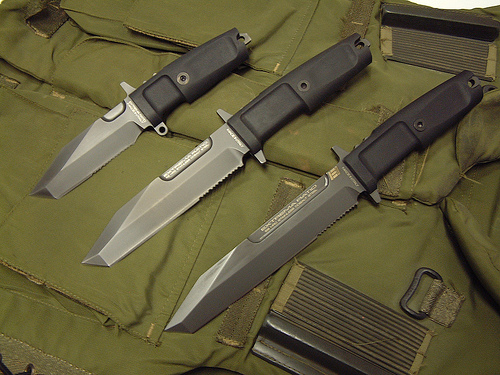knife: (162, 170, 360, 337), (76, 128, 246, 269), (23, 94, 145, 205)
